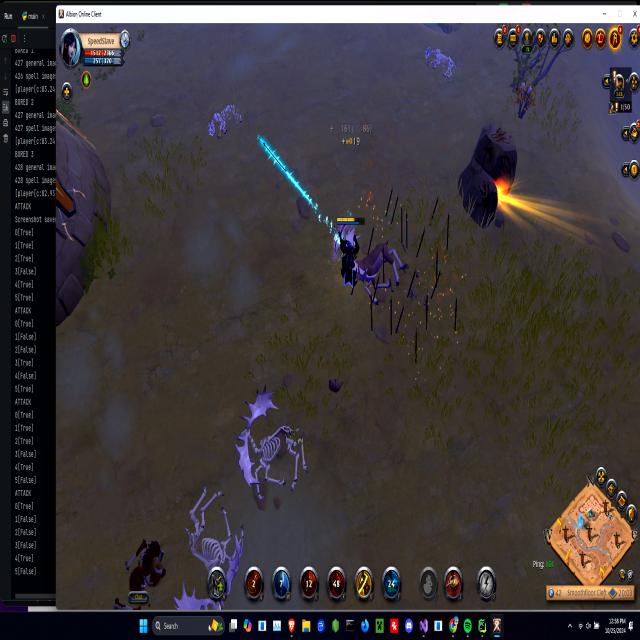hide: (514, 77, 538, 122)
mob: (340, 238, 410, 310)
red: (332, 212, 365, 291)
